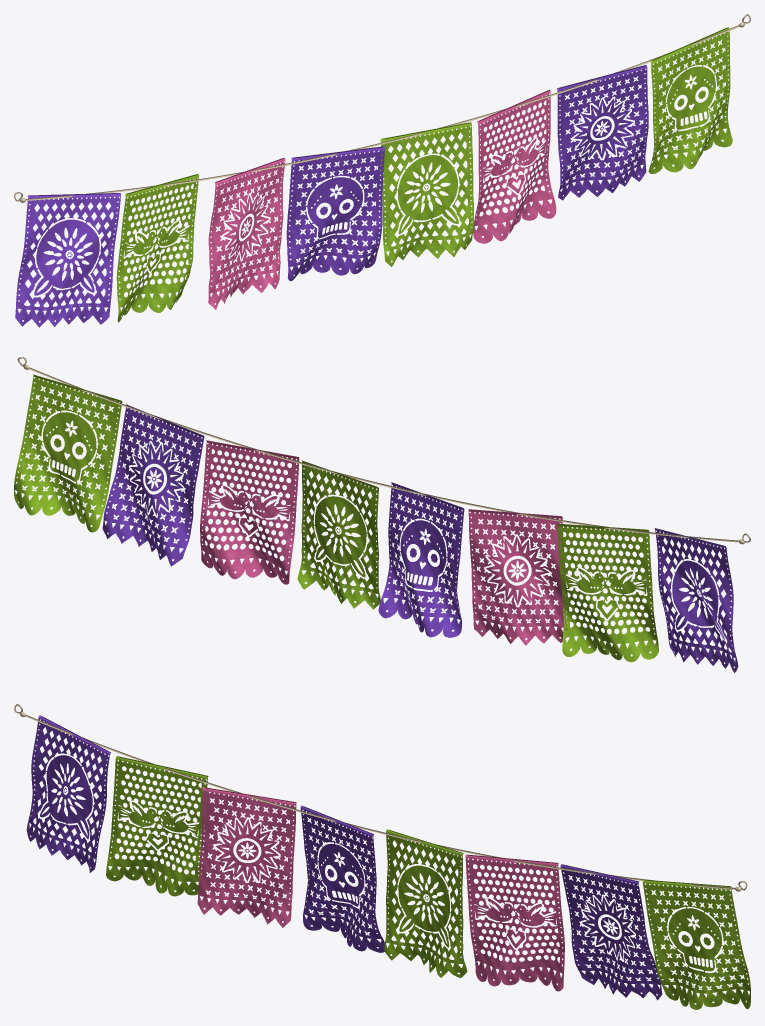
Rendered from w3_altar_papelstrip_b.glb.
The picture shows the model from 3 angles, top to bottom: view 1: azimuth 30°, elevation 25°; view 2: azimuth 150°, elevation 25°; view 3: azimuth 330°, elevation 25°; orthographic projection.
Visible parts, largest first — view 1: w3_altar_papelstrip_b; view 2: w3_altar_papelstrip_b; view 3: w3_altar_papelstrip_b.
Boxes of the visible parts, x1,y1,x2,y2 form: w3_altar_papelstrip_b: (14,14,750,327); w3_altar_papelstrip_b: (14,357,750,672); w3_altar_papelstrip_b: (14,704,750,1009).
Bounding box in the file's own units: 2.43 × 0.527 × 0.1427.
Materials: 2 (2 with a texture image).
